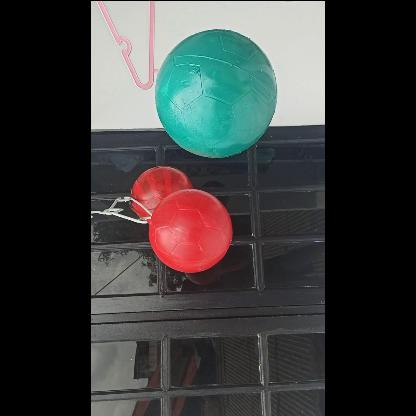red_ball: (148, 190, 230, 272)
